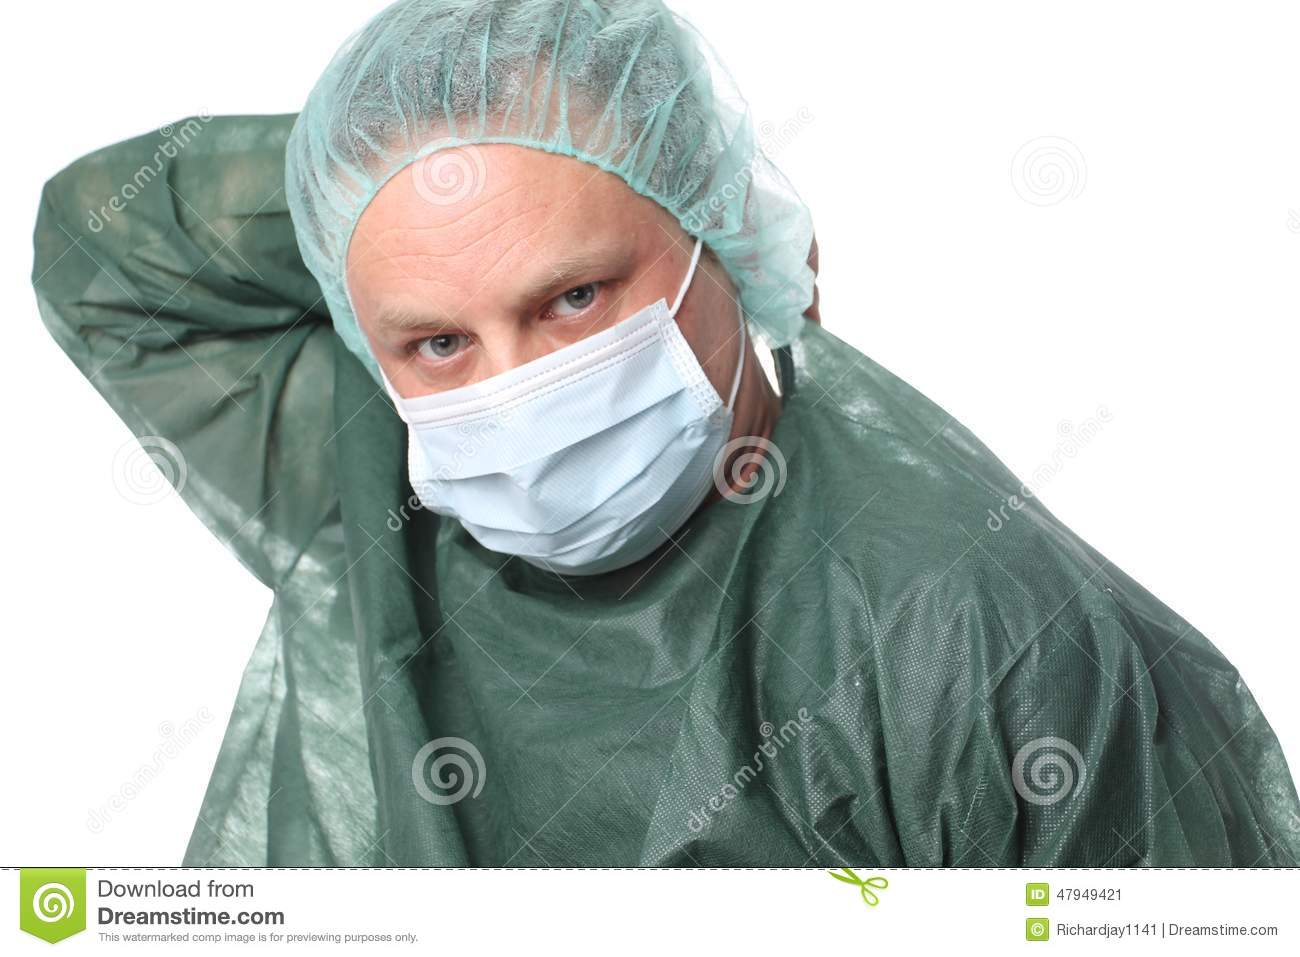mask: (397, 363, 726, 604)
